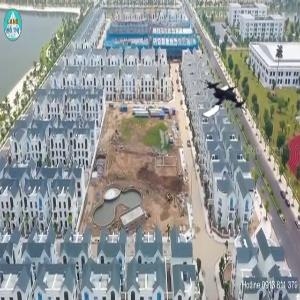drone: (190, 72, 248, 130)
